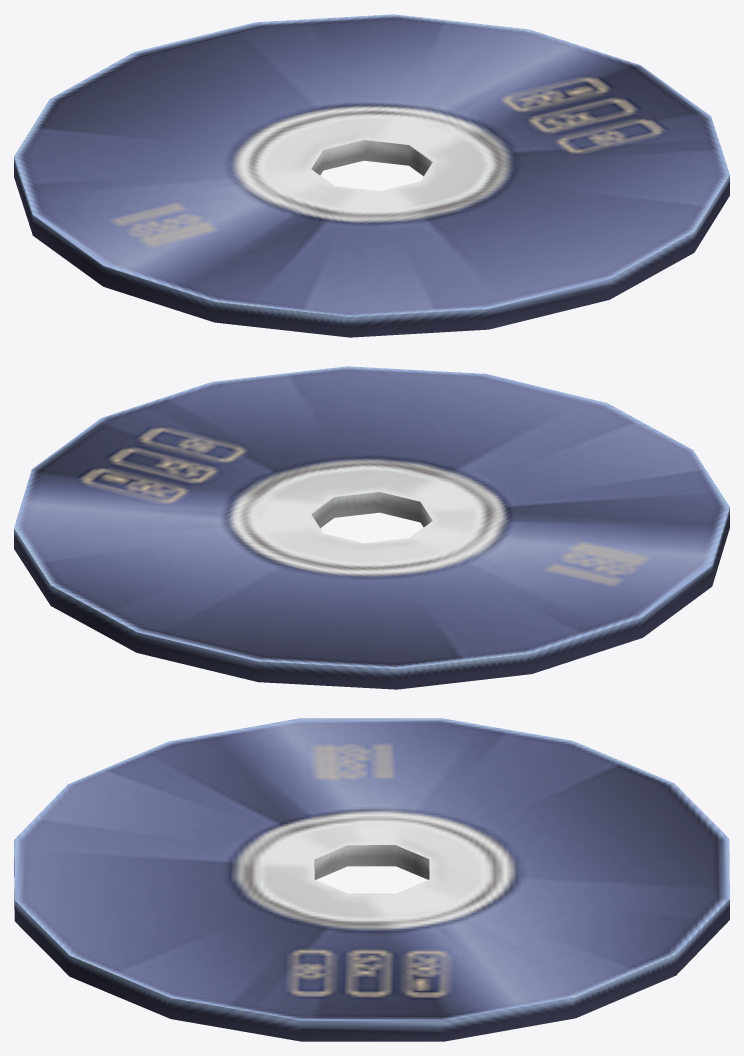
The model's file is DanShenGongYu_01_GuangPan_01.FBX.
3 renders of one model, top to bottom at view 1: azimuth 30°, elevation 25°; view 2: azimuth 150°, elevation 25°; view 3: azimuth 270°, elevation 25°, orthographic.
Parts seen in each view (by area): view 1: pCylinder3; view 2: pCylinder3; view 3: pCylinder3.
Part boxes in pixels (x1=…): pCylinder3: x1=14, y1=14, x2=729, y2=337; pCylinder3: x1=14, y1=366, x2=729, y2=689; pCylinder3: x1=14, y1=718, x2=729, y2=1041.
Bounding box in the file's own units: 140 × 4.54 × 140.
